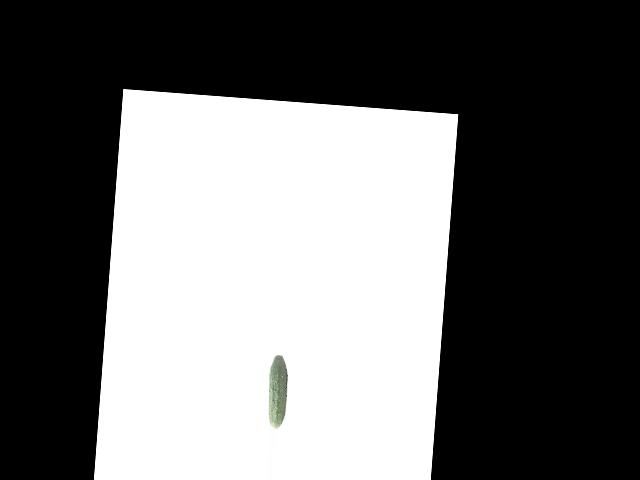cucumber: (265, 354, 289, 429)
